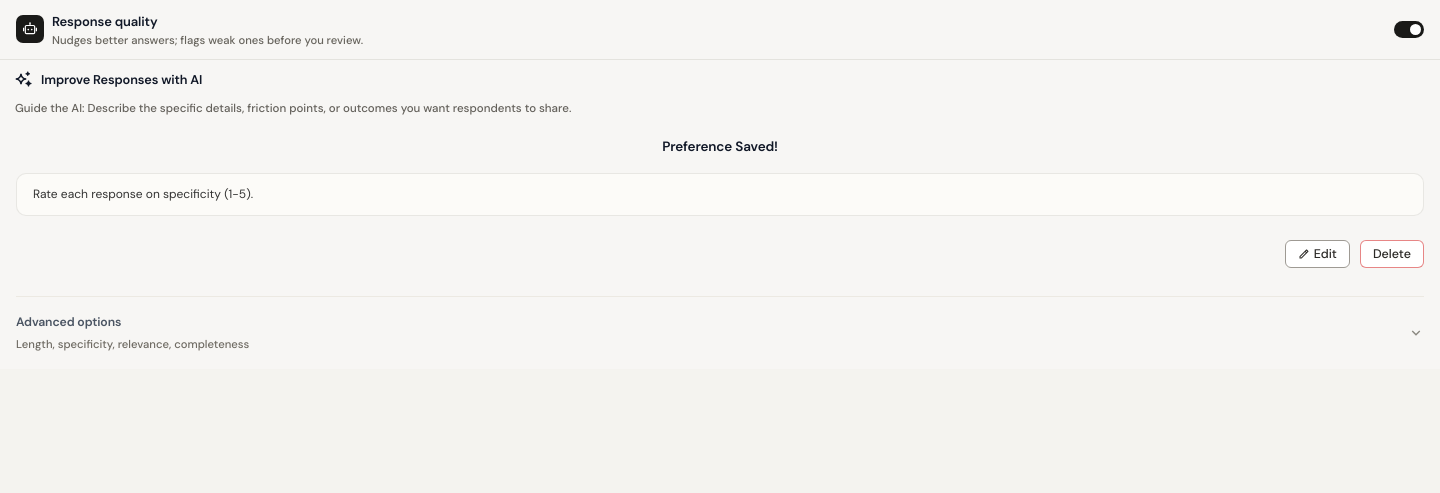
Test case: ResponseQualityScoringCard › shows saved preference state and allows returning to edit mode
Expected: the text "Preference Saved!" is shown, [662,138,778,155]
Step 1. Click the button "Edit" → (1317, 254), box [1285,240,1350,268]
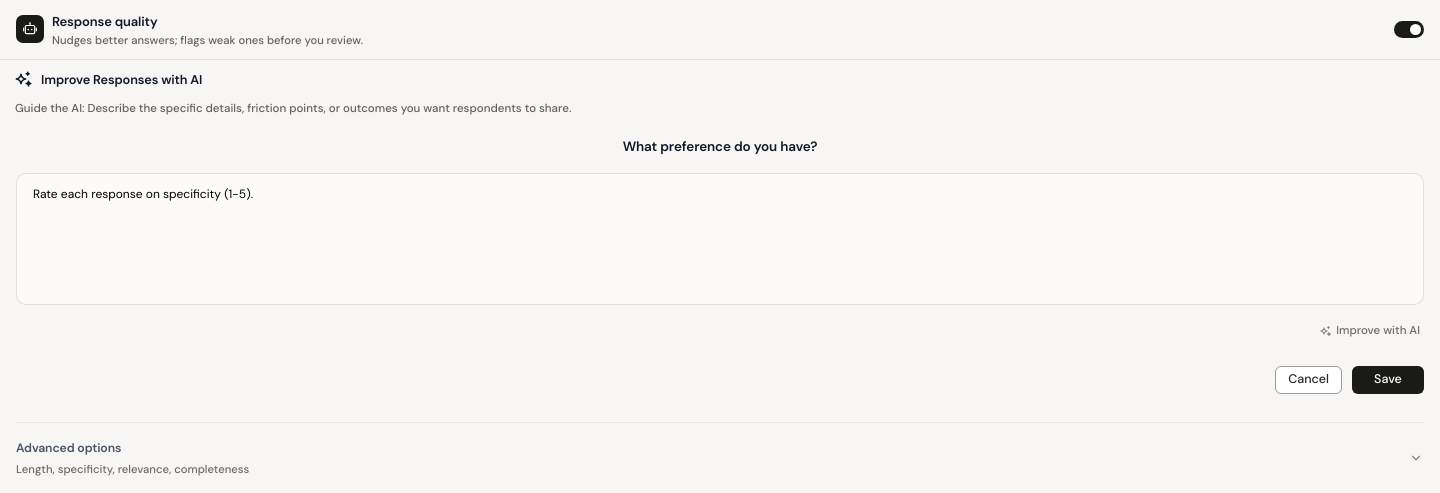
Result: the text box showing "Rate each response on specificity (1-5)." is shown at [16,173,1424,305]
